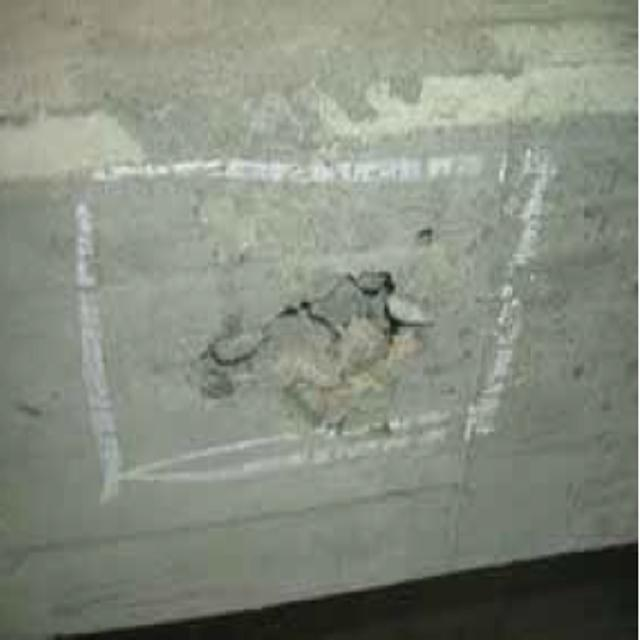spalling: (203, 236, 444, 431)
